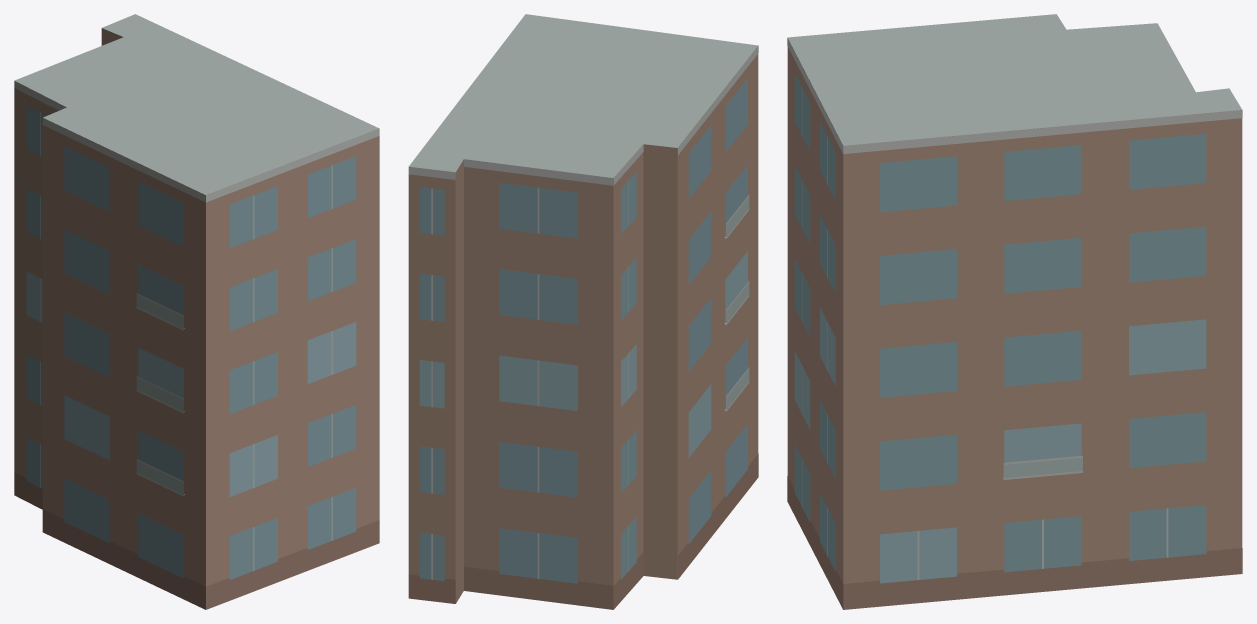
File: survey-upis-32717842.glb
The picture shows the model from 3 angles, left to right: view 1: azimuth 30°, elevation 25°; view 2: azimuth 150°, elevation 25°; view 3: azimuth 270°, elevation 25°; orthographic projection. The views are drawn at different scales.
Visible parts, largest first — view 1: survey-upis-32717842.tmp; view 2: survey-upis-32717842.tmp; view 3: survey-upis-32717842.tmp.
Part boxes in pixels (x1,y1,x2,y2): survey-upis-32717842.tmp: (14, 14, 379, 609); survey-upis-32717842.tmp: (408, 14, 758, 609); survey-upis-32717842.tmp: (787, 14, 1242, 609).
Size of the model in its own units: 8.42 by 13.8 by 12.28.
